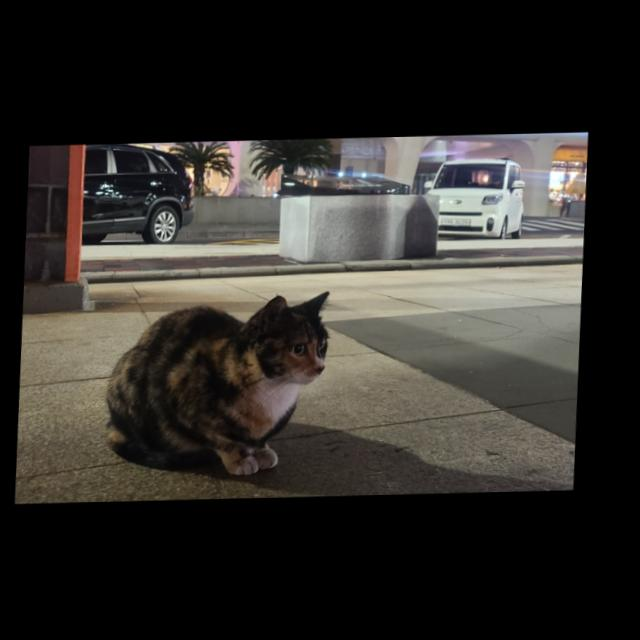animals: (104, 292, 338, 479)
